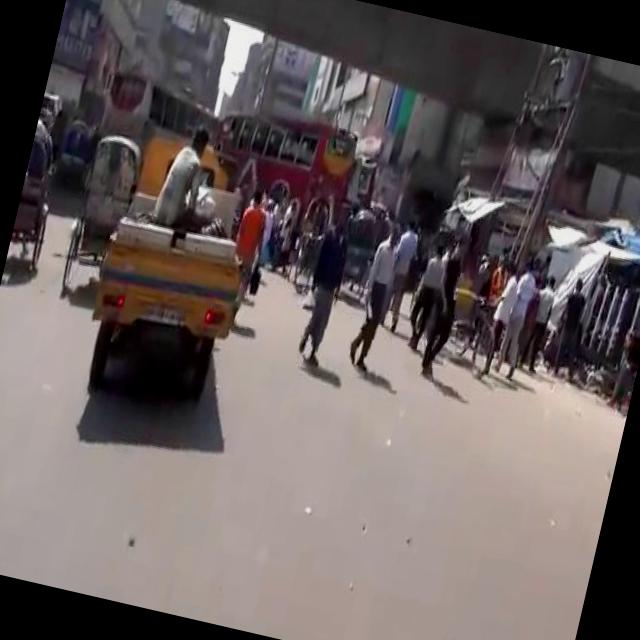bus: (198, 94, 360, 228), (83, 59, 226, 204), (56, 125, 144, 298)
motorcycle: (54, 125, 148, 306), (2, 114, 72, 280), (282, 180, 338, 296), (330, 202, 382, 302), (50, 112, 94, 196)
truck: (70, 120, 276, 418)
